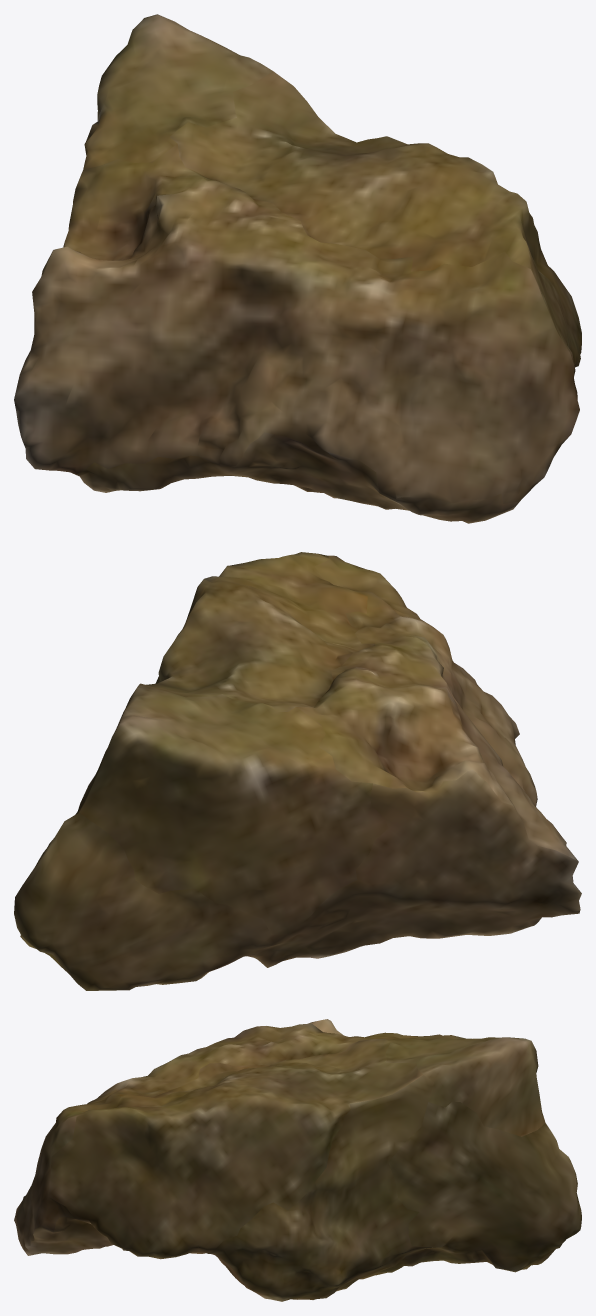
The model's file is rock_moss_set_01_e.gltf.
The picture shows the model from 3 angles, top to bottom: view 1: azimuth 30°, elevation 25°; view 2: azimuth 150°, elevation 25°; view 3: azimuth 270°, elevation 25°; orthographic projection. The views are drawn at different scales.
Parts seen in each view (by area): view 1: rock_moss_set_01_rock06; view 2: rock_moss_set_01_rock06; view 3: rock_moss_set_01_rock06.
Boxes of the visible parts, left/top/right/bottom form: rock_moss_set_01_rock06: left=14, top=14, right=581, bottom=523; rock_moss_set_01_rock06: left=14, top=552, right=581, bottom=990; rock_moss_set_01_rock06: left=14, top=1019, right=581, bottom=1301.
Size of the model in its own units: 2.13 by 1.26 by 2.76.
1 material, 1 textured.
